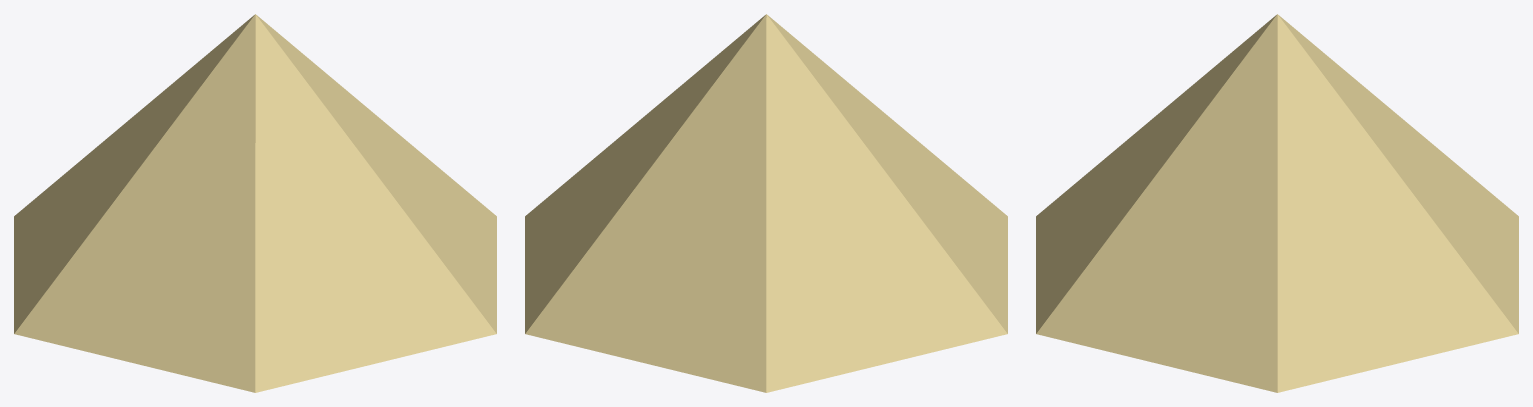
File: Sand.fbx
3 views of the same model, side by side, from view 1: azimuth 30°, elevation 25°; view 2: azimuth 150°, elevation 25°; view 3: azimuth 270°, elevation 25° (orthographic).
Parts seen in each view (by area): view 1: sand1:pCone12; view 2: sand1:pCone12; view 3: sand1:pCone12.
Boxes of the visible parts, x1,y1,x2,y2 form: sand1:pCone12: (14, 14, 496, 392); sand1:pCone12: (525, 14, 1007, 392); sand1:pCone12: (1036, 14, 1518, 392).
Size of the model in its own units: 2.71 by 1.4 by 2.34.
